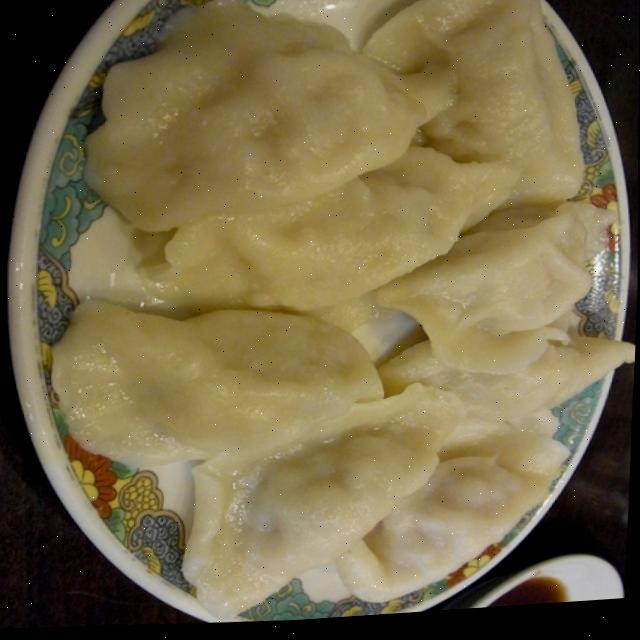带馅早点: (16, 0, 638, 627)
